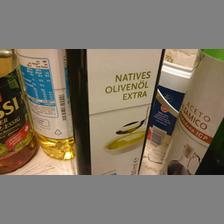Oel: (65, 48, 165, 174), (14, 50, 74, 158)
